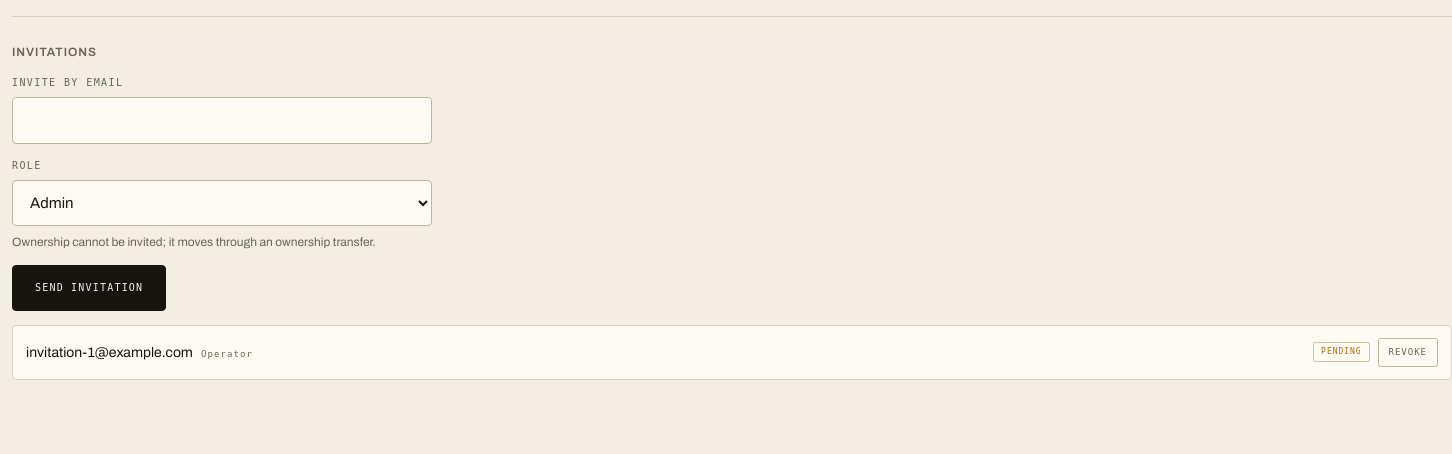
InvitationPanel sending › reports an undelivered invitation
Type "new@example.com" into the field labelled "INVITE BY EMAIL" at (222, 120), box top-left (12, 97), bottom-right (432, 144)
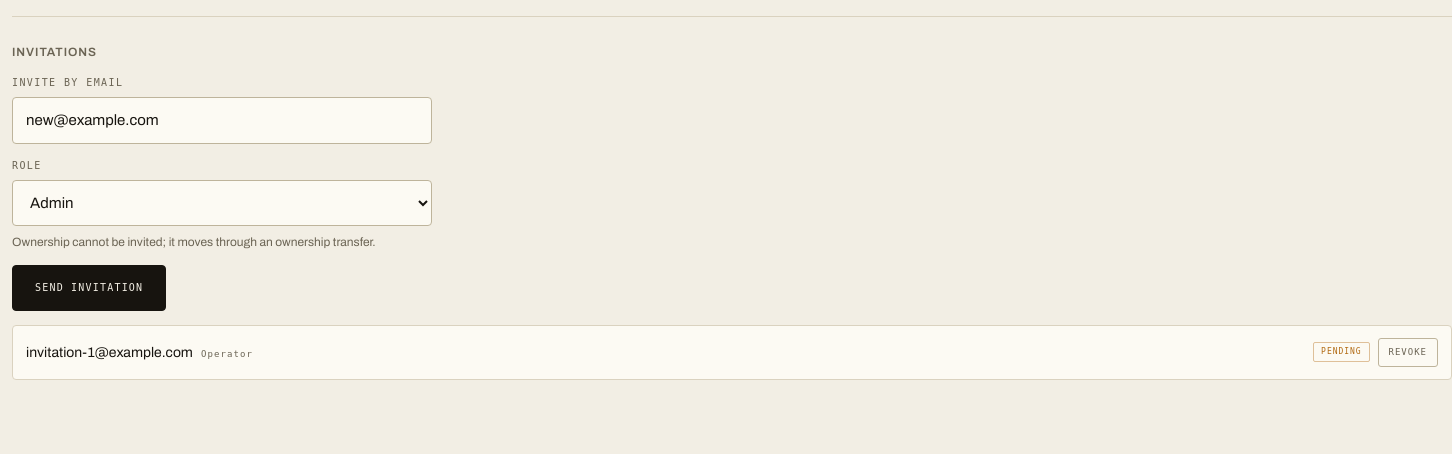
Click the button "SEND INVITATION" at (89, 288), box top-left (12, 264), bottom-right (166, 310)
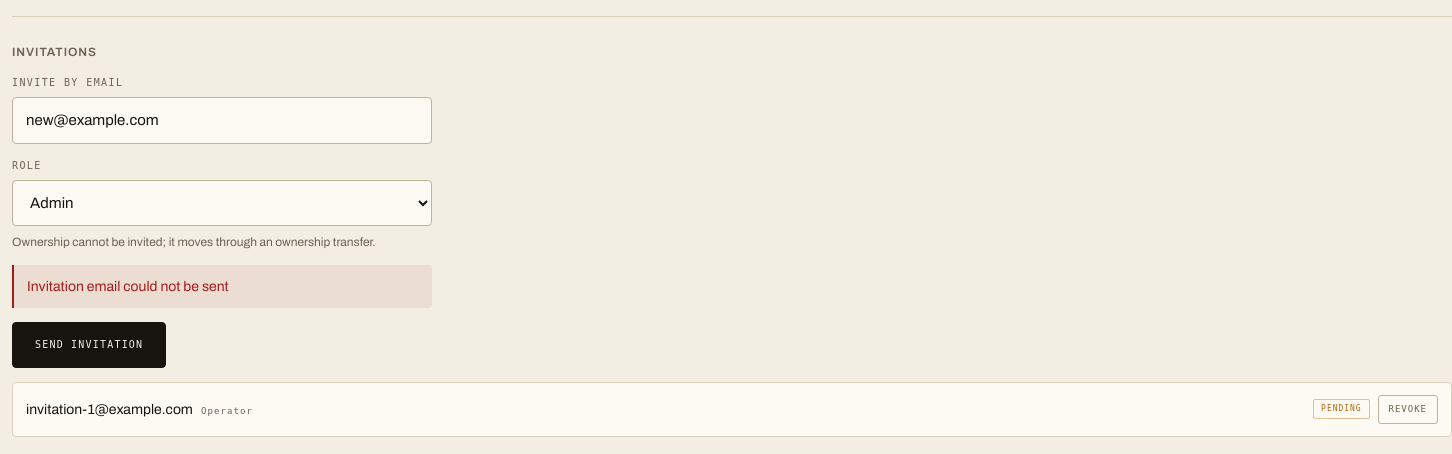
Expected: the message shows "could not be sent", top-left (27, 278), bottom-right (229, 294)
